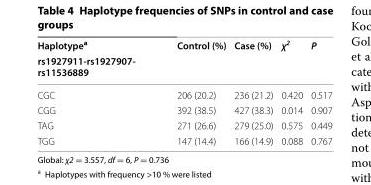table: (36, 37, 331, 146)
table column: (36, 37, 155, 146), (155, 37, 229, 146), (229, 37, 276, 146), (276, 37, 306, 146), (306, 37, 331, 146)
table column header: (36, 37, 331, 83)
table row: (36, 52, 331, 83), (36, 83, 331, 102), (36, 37, 331, 52), (36, 102, 331, 117), (36, 117, 331, 132), (36, 132, 331, 146)
table spanning cell: (36, 37, 155, 83), (155, 37, 229, 83), (229, 37, 276, 83), (276, 37, 306, 83), (306, 37, 331, 83)
